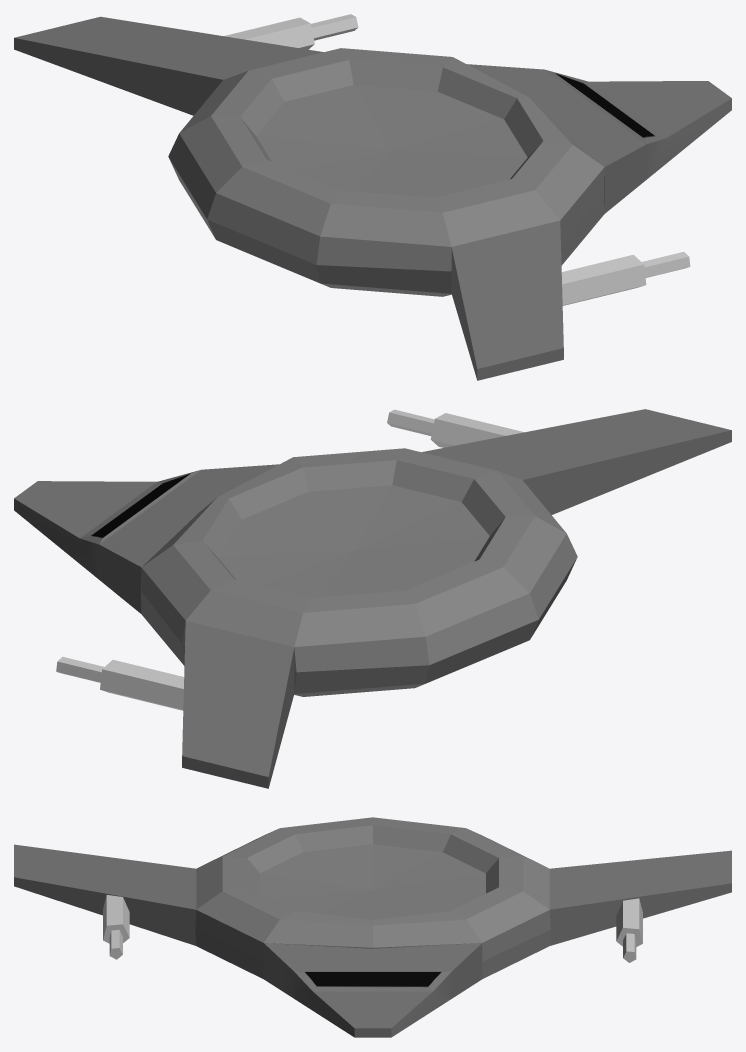
The model's file is ShipTextured.obj.
3 renders of one model, top to bottom at view 1: azimuth 30°, elevation 25°; view 2: azimuth 150°, elevation 25°; view 3: azimuth 270°, elevation 25°, orthographic. The views are drawn at different scales.
Parts seen in each view (by area): view 1: polySurface6 pCylinder4, polySurface5, polySurface1; view 2: polySurface6 pCylinder4, polySurface5, polySurface1; view 3: polySurface6 pCylinder4, polySurface5, polySurface1.
Boxes of the visible parts, x1=… form: polySurface6 pCylinder4: x1=168, y1=48, x2=604, y2=296; polySurface5: x1=14, y1=16, x2=731, y2=380; polySurface1: x1=223, y1=14, x2=690, y2=305; polySurface6 pCylinder4: x1=141, y1=448, x2=577, y2=696; polySurface5: x1=14, y1=409, x2=731, y2=788; polySurface1: x1=56, y1=409, x2=523, y2=710; polySurface6 pCylinder4: x1=195, y1=817, x2=550, y2=978; polySurface5: x1=14, y1=844, x2=731, y2=1037; polySurface1: x1=103, y1=895, x2=642, y2=962.
Bounding box in the file's own units: 12.5 × 2.35 × 19.56.
